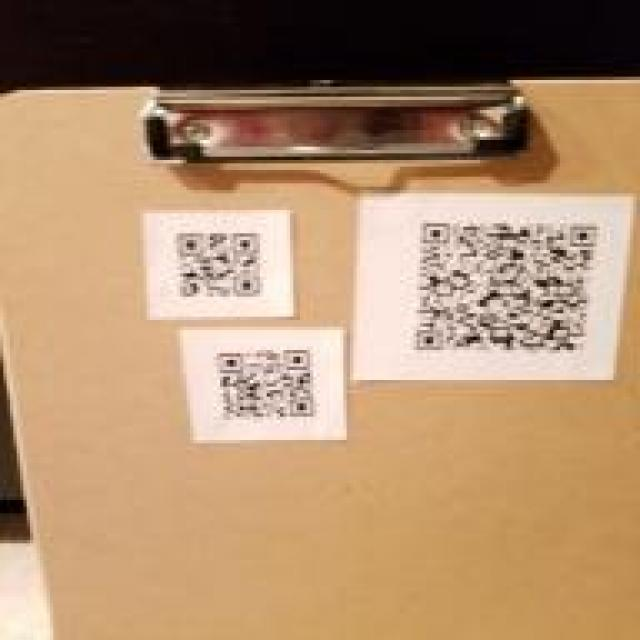qr_code: (416, 222, 599, 355), (216, 349, 315, 420), (177, 233, 260, 297)
